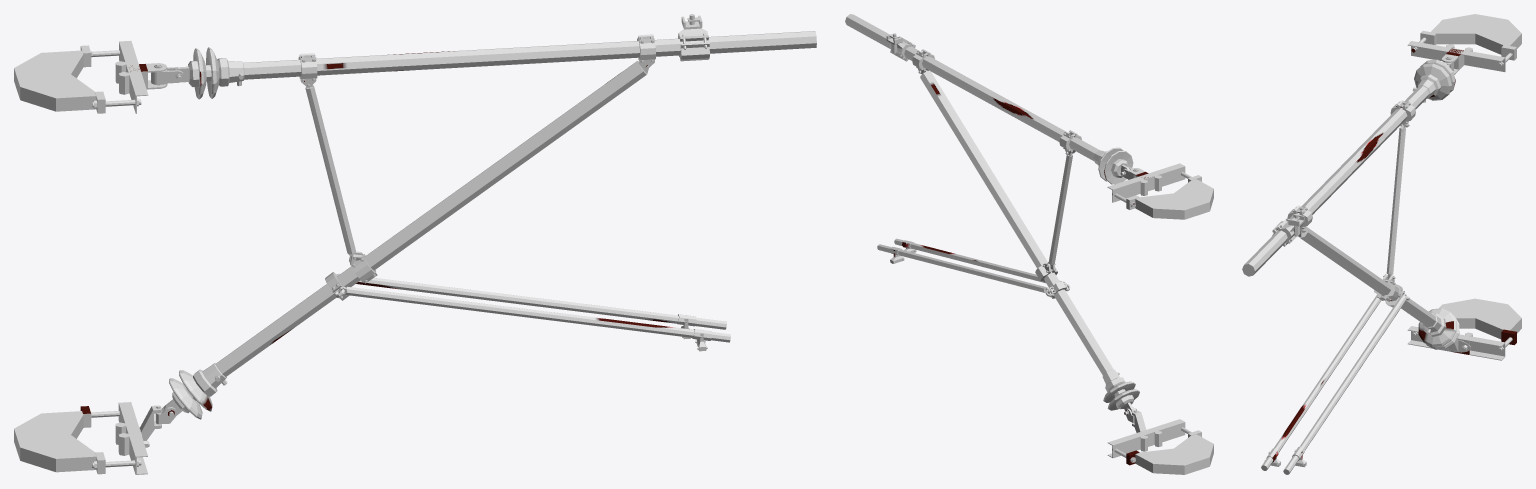
Rendered from Bracket1a68.obj.
The picture shows the model from 3 angles, left to right: view 1: azimuth 30°, elevation 25°; view 2: azimuth 150°, elevation 25°; view 3: azimuth 270°, elevation 25°; orthographic projection. The views are drawn at different scales.
Visible parts, largest first — view 1: obj1; view 2: obj1; view 3: obj1.
Boxes of the visible parts, <box> form: obj1: <box>14,14,816,474</box>; obj1: <box>845,14,1213,474</box>; obj1: <box>1242,14,1521,474</box>.
Bounding box in the file's own units: 2.11 × 1.22 × 0.988.
1 material, 1 textured.
